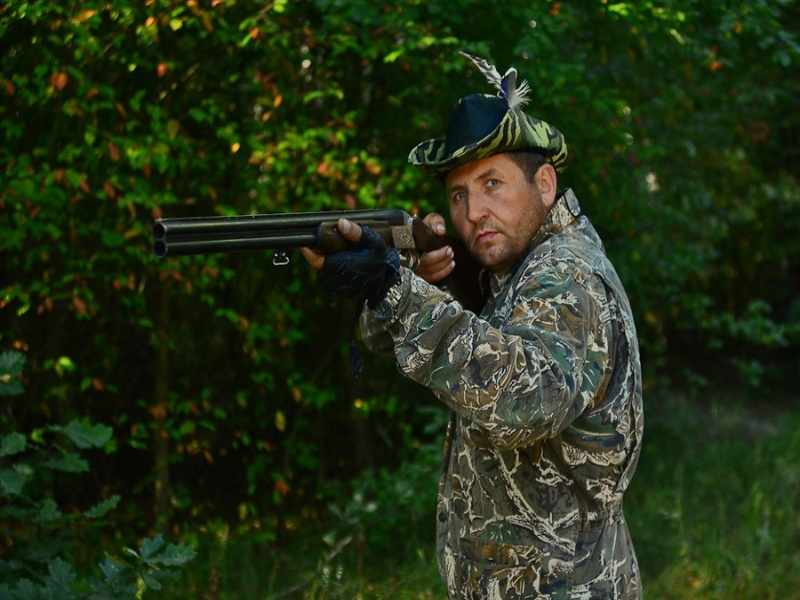person: (301, 93, 645, 600)
weapon: (152, 208, 438, 256)
